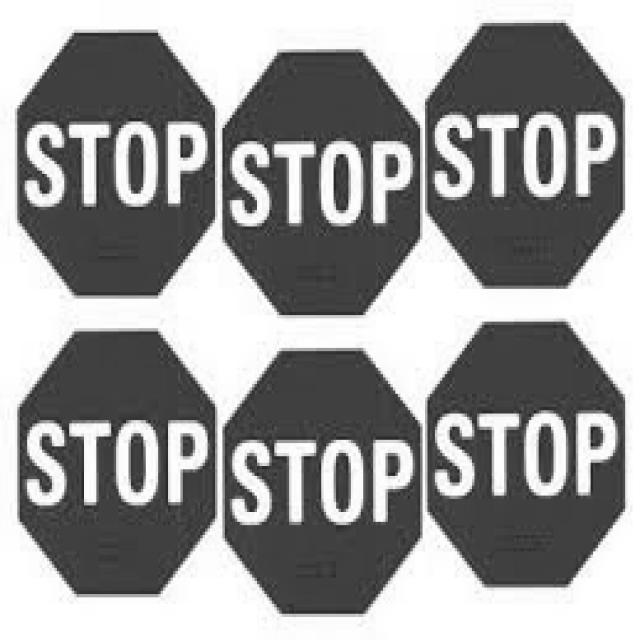stop sign: (13, 19, 218, 315)
